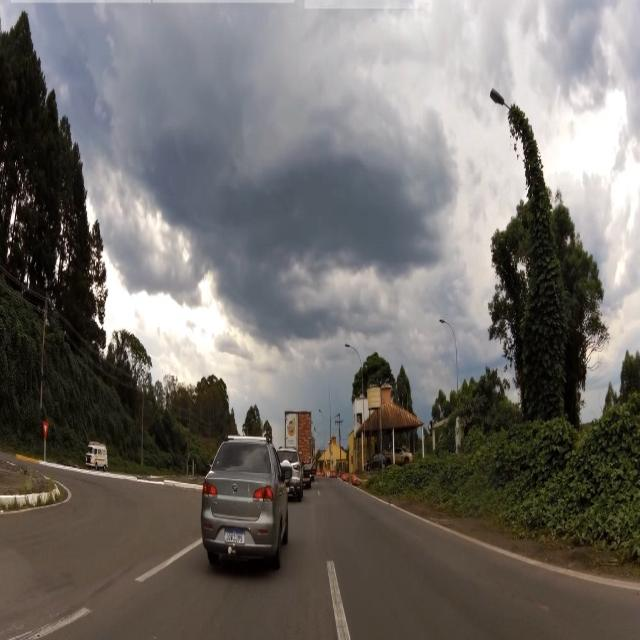R-2: (42, 418, 48, 438)
